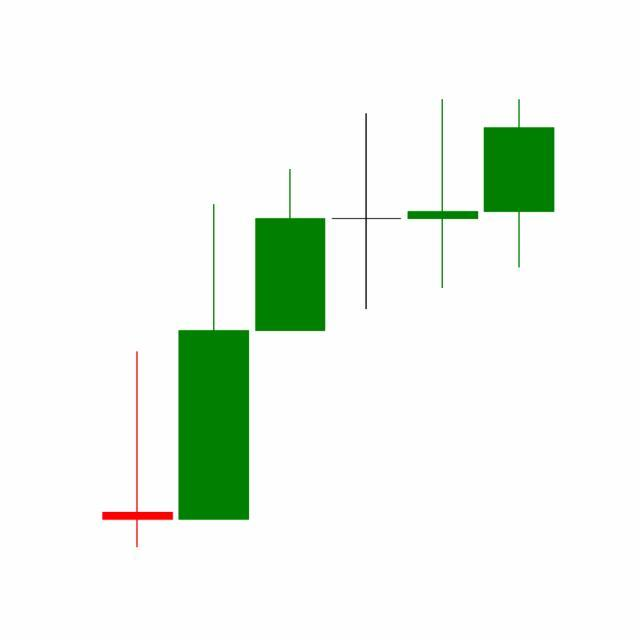Spinning Top: (404, 97, 482, 291)
